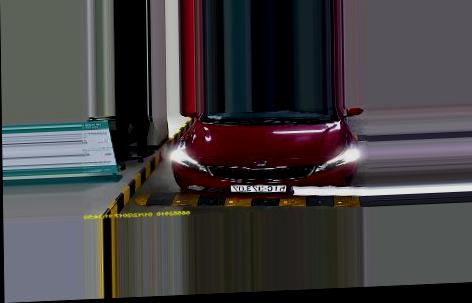License_Plate: (230, 180, 289, 196)
